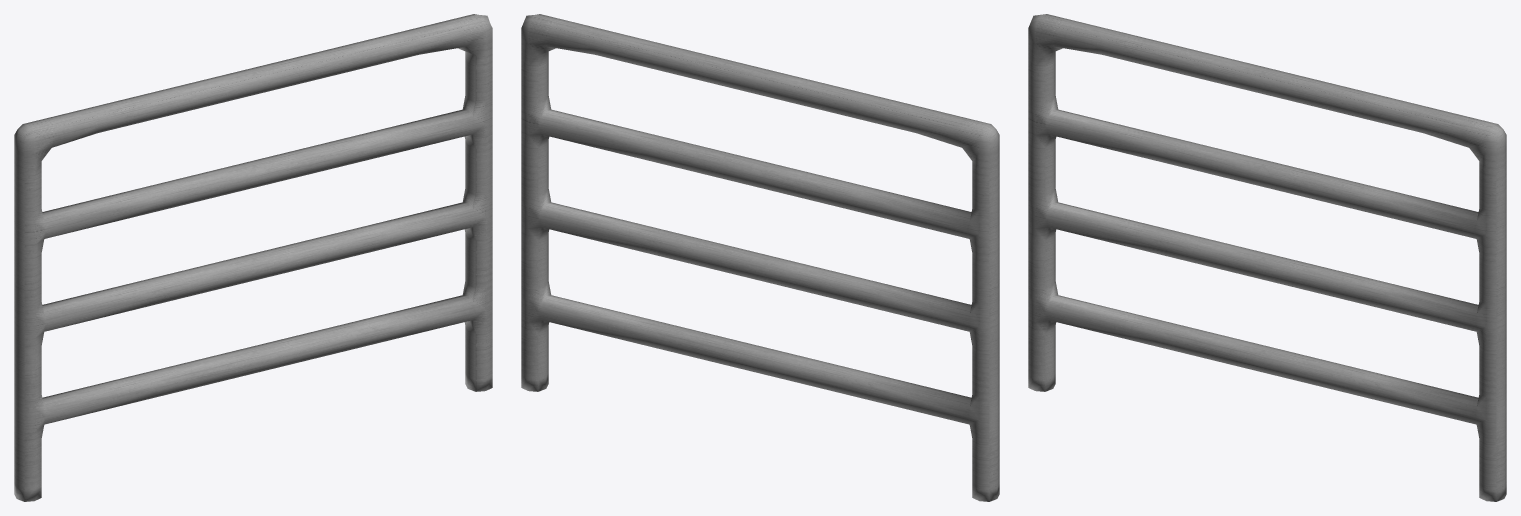
Rendered from guard-rail.obj.
3 views of the same model, side by side, from view 1: azimuth 30°, elevation 25°; view 2: azimuth 150°, elevation 25°; view 3: azimuth 330°, elevation 25° (orthographic).
Visible parts, largest first — view 1: guard-rail; view 2: guard-rail; view 3: guard-rail.
Boxes of the visible parts, <box> form: guard-rail: <box>14,14,492,501</box>; guard-rail: <box>521,14,999,501</box>; guard-rail: <box>1028,14,1506,501</box>.
Size of the model in its own units: 2 by 1.5 by 0.1.
Materials: 1 (1 with a texture image).
